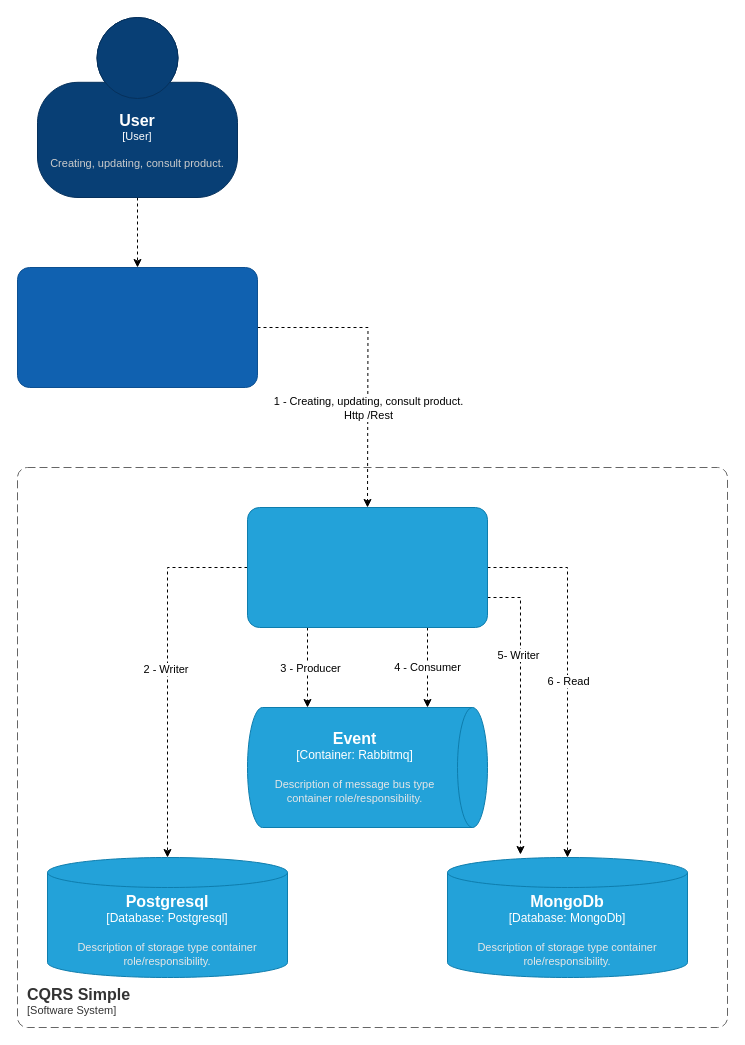
This 745x1045 diagram has some shape labels left out. Here are the shapes that lost their labels. From the top down, the centre of each, then its label:
At (x=137, y=327): "Client App [Software System] Description of software system.".
At (x=367, y=567): "CQRS Simple [Container: SpringBoot] Manage product.".
